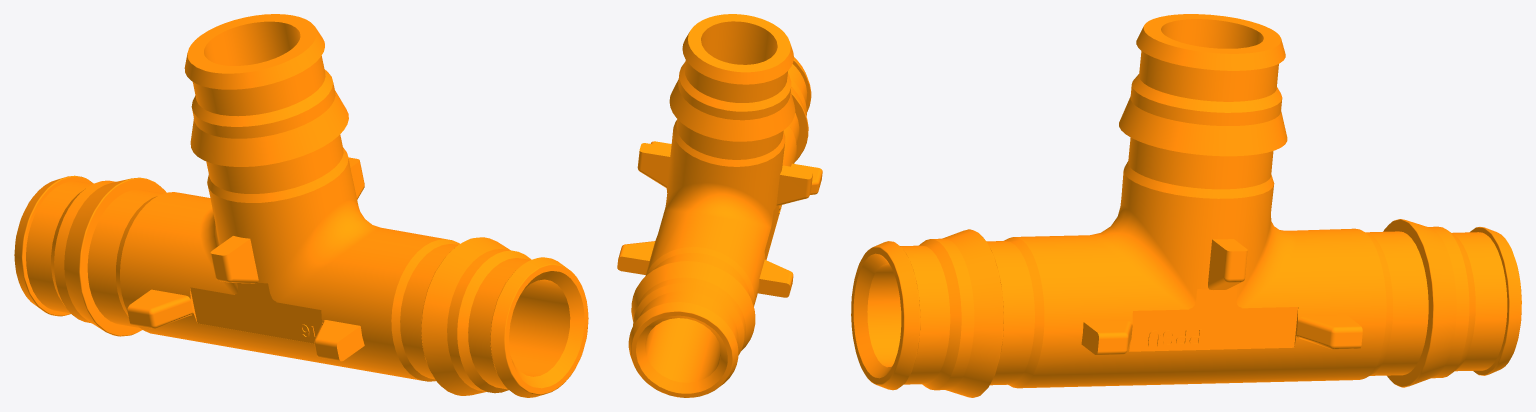
3 views of the same model, side by side, from view 1: azimuth 30°, elevation 25°; view 2: azimuth 150°, elevation 25°; view 3: azimuth 270°, elevation 25° (orthographic). The views are drawn at different scales.
Parts seen in each view (by area): view 1: Áîáûøêà-Âûòÿíóòü4.001; view 2: Áîáûøêà-Âûòÿíóòü4.001; view 3: Áîáûøêà-Âûòÿíóòü4.001.
Part boxes in pixels (<box>): Áîáûøêà-Âûòÿíóòü4.001: <box>14,14,588,397</box>; Áîáûøêà-Âûòÿíóòü4.001: <box>617,14,822,397</box>; Áîáûøêà-Âûòÿíóòü4.001: <box>851,14,1521,397</box>.
Bounding box in the file's own units: 6.83 × 7.67 × 12.44.
